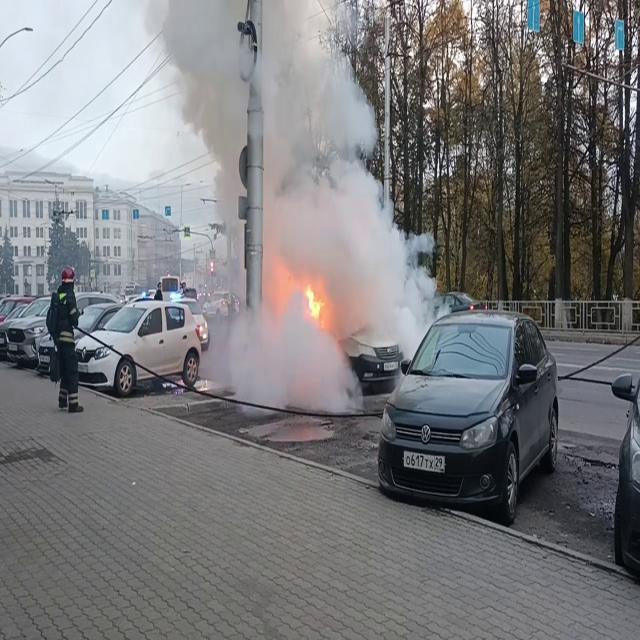Fire: (280, 253, 330, 324)
Smoke: (160, 1, 436, 382)
